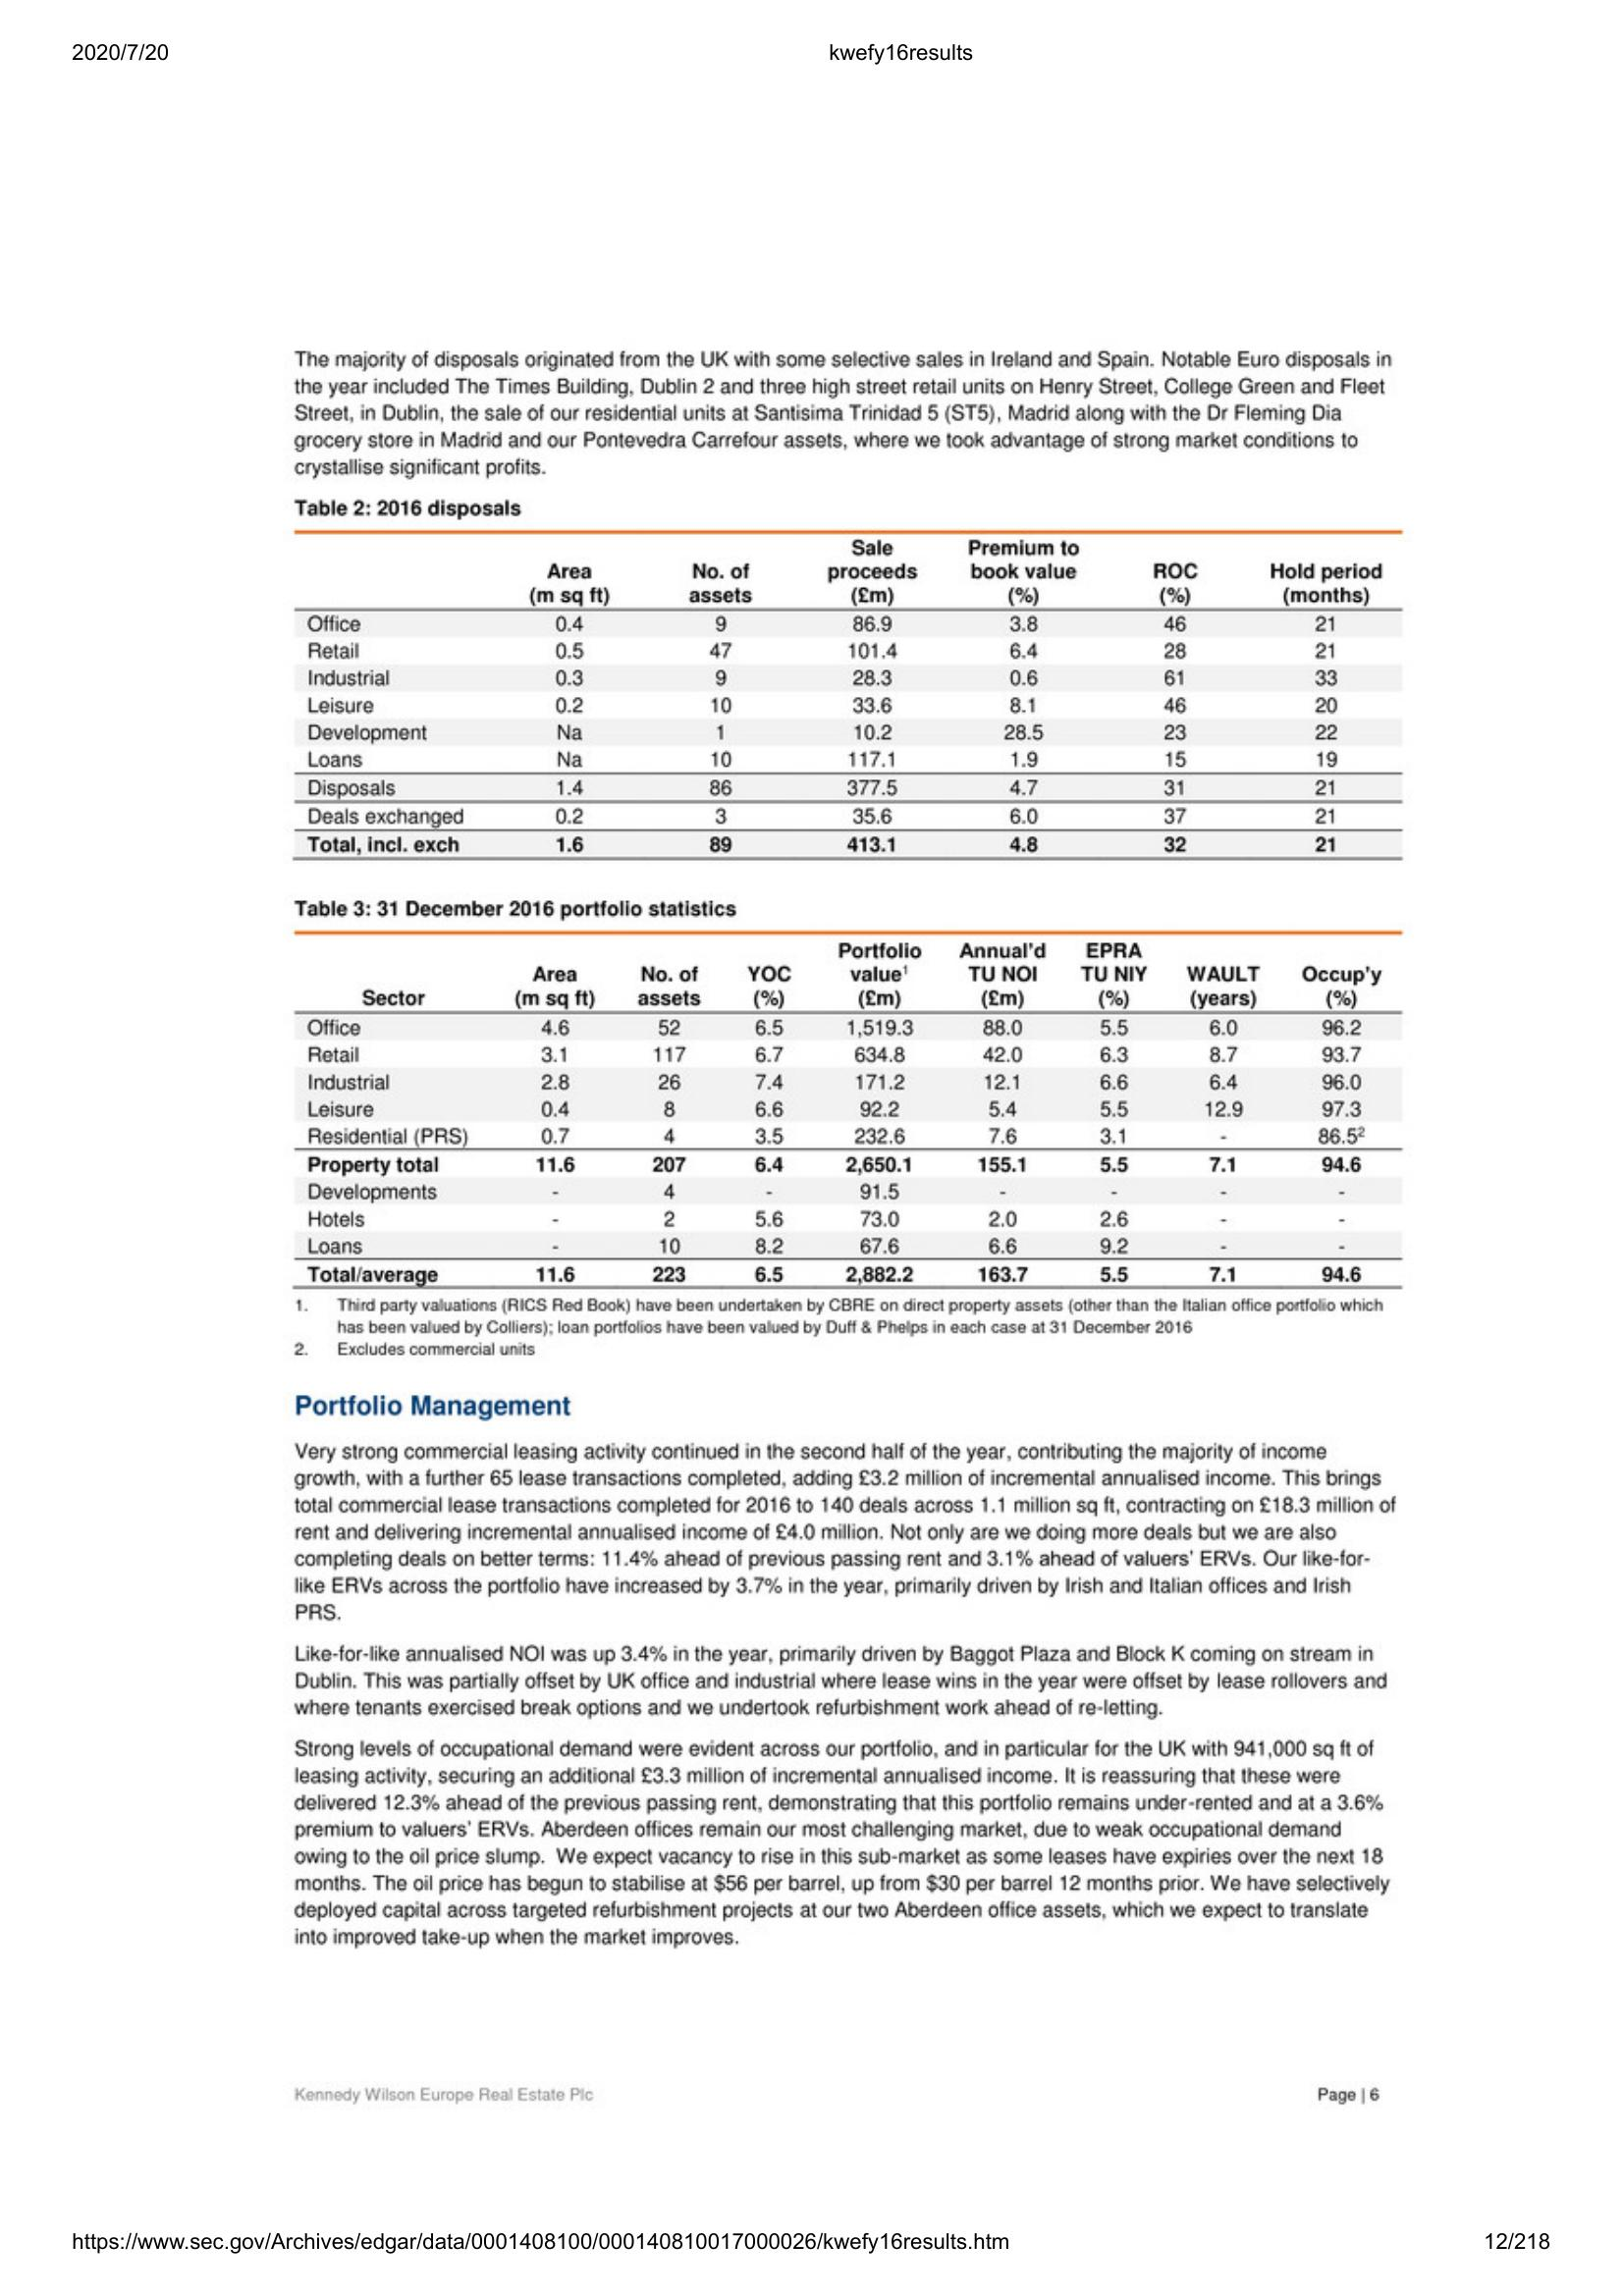table: (285, 893, 1417, 1295), (290, 497, 1416, 874)
